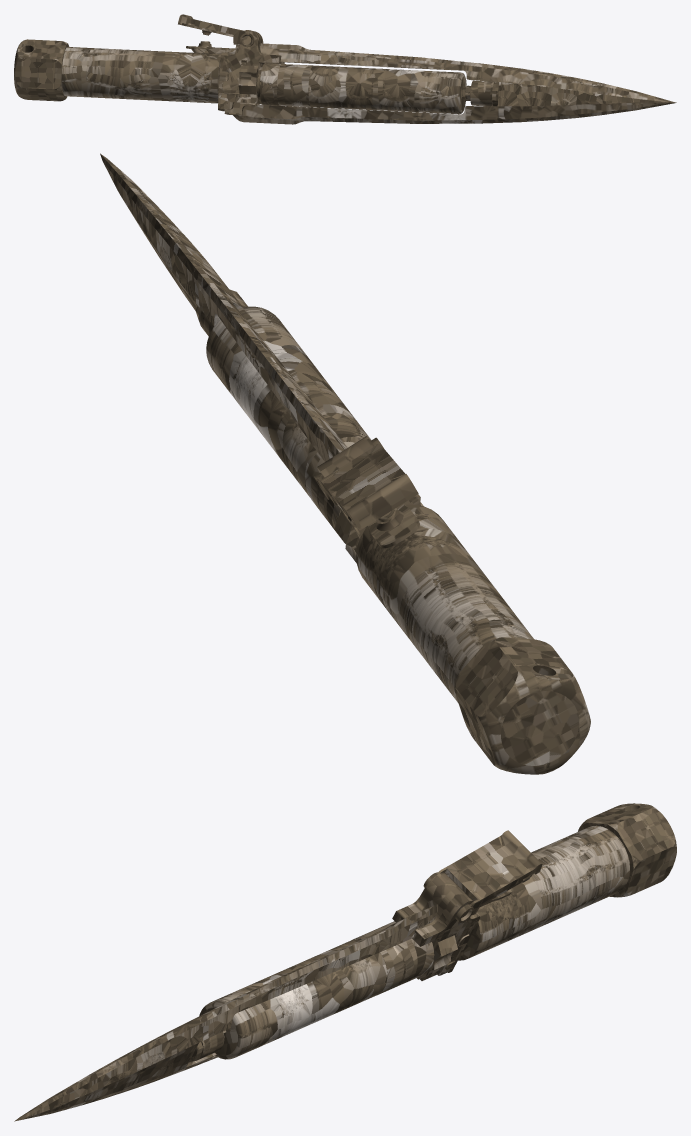
3 renders of one model, top to bottom at view 1: azimuth 30°, elevation 25°; view 2: azimuth 150°, elevation 25°; view 3: azimuth 270°, elevation 25°, orthographic. The views are drawn at different scales.
Visible parts, largest first — view 1: Blade_LP__0, KnifeGrip_LP__0, Explosive_LP__0, KnifeEnd_LP__0, KnifeBody_LP__0, Balls_LP__0, TopBalls_LP__0, DetonTop_LP__0, CylinderScrew_LP__0, DetonatorBottom_LP__0; view 2: KnifeGrip_LP__0, KnifeEnd_LP__0, Blade_LP__0, Explosive_LP__0, DetonTop_LP__0, KnifeBody_LP__0, DetonatorBottom_LP__0, Balls_LP__0; view 3: Blade_LP__0, KnifeGrip_LP__0, Explosive_LP__0, KnifeEnd_LP__0, DetonTop_LP__0, KnifeBody_LP__0, Balls_LP__0, TopBalls_LP__0.
Part boxes in pixels (box(x1,y1,x2,y2)): Blade_LP__0: box(232, 43, 676, 124); KnifeGrip_LP__0: box(62, 47, 220, 103); Explosive_LP__0: box(308, 65, 466, 114); KnifeEnd_LP__0: box(14, 39, 69, 101); KnifeBody_LP__0: box(218, 30, 284, 114); Balls_LP__0: box(277, 64, 312, 107); TopBalls_LP__0: box(257, 63, 280, 105); DetonTop_LP__0: box(178, 14, 254, 47); CylinderScrew_LP__0: box(470, 80, 495, 106); DetonatorBottom_LP__0: box(186, 43, 235, 53); KnifeGrip_LP__0: box(356, 504, 533, 702); KnifeEnd_LP__0: box(454, 637, 590, 774); Blade_LP__0: box(100, 153, 347, 461); Explosive_LP__0: box(206, 306, 371, 496); DetonTop_LP__0: box(314, 437, 418, 530); KnifeBody_LP__0: box(317, 436, 423, 563); DetonatorBottom_LP__0: box(368, 504, 419, 548); Balls_LP__0: box(305, 436, 362, 525); Blade_LP__0: box(14, 904, 437, 1121); KnifeGrip_LP__0: box(458, 825, 629, 960); Explosive_LP__0: box(199, 938, 387, 1059); KnifeEnd_LP__0: box(578, 803, 676, 897); DetonTop_LP__0: box(423, 830, 542, 922); KnifeBody_LP__0: box(392, 872, 479, 980); Balls_LP__0: box(352, 925, 417, 994); TopBalls_LP__0: box(383, 921, 434, 981).
Bounding box in the file's own units: 4.33 × 0.8152 × 3.79.
